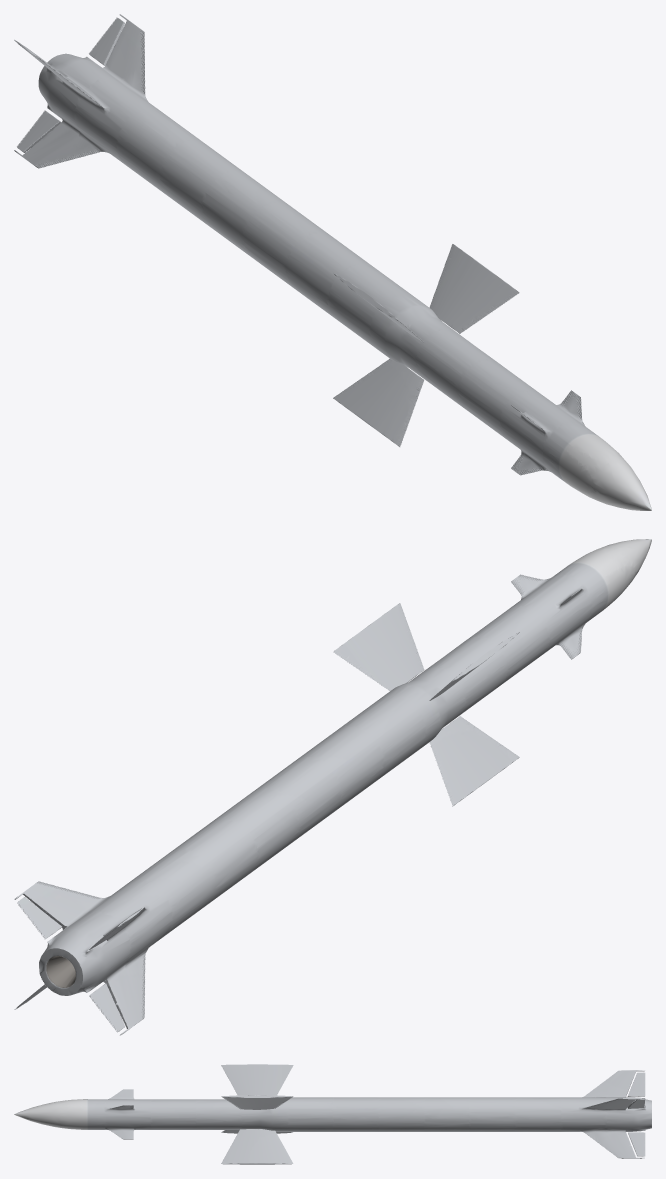
3 views of the same model, one above another, from view 1: azimuth 30°, elevation 25°; view 2: azimuth 150°, elevation 25°; view 3: azimuth 270°, elevation 25° (orthographic). The views are drawn at different scales.
Parts seen in each view (by area): view 1: airframe, fsim:elevator+aileron:1+rudder:1@-20,20, fsim:elevator+aileron:-1+rudder:1@-20,20, fsim:aileron (×2); view 2: airframe, fsim:elevator+aileron:1+rudder:1@-20,20, fsim:elevator+aileron:-1+rudder:1@-20,20, fsim:aileron (×2); view 3: airframe, fsim:elevator+aileron:1+rudder:-1@-20,20, fsim:elevator+aileron:-1+rudder:-1@-20,20, fsim:elevator+aileron:1+rudder:1@-20,20, fsim:aileron (×2).
Boxes of the visible parts, x1,y1,x2,y2 form: airframe: (14,14,651,510); fsim:elevator+aileron:1+rudder:1@-20,20: (429,244,519,333); fsim:elevator+aileron:-1+rudder:1@-20,20: (333,359,423,446); fsim:aileron (×2): (17,17,124,152); airframe: (14,539,651,1035); fsim:elevator+aileron:1+rudder:1@-20,20: (333,603,424,690); fsim:elevator+aileron:-1+rudder:1@-20,20: (429,716,519,806); fsim:aileron (×2): (17,897,124,1032); airframe: (14,1070,651,1158); fsim:elevator+aileron:1+rudder:-1@-20,20: (221,1129,293,1164); fsim:elevator+aileron:-1+rudder:-1@-20,20: (221,1064,293,1095); fsim:elevator+aileron:1+rudder:1@-20,20: (221,1095,293,1109); fsim:aileron (×2): (627,1072,645,1156).
Size of the model in its own units: 0.5755 by 0.5762 by 4.78.
3 materials, 1 textured.
